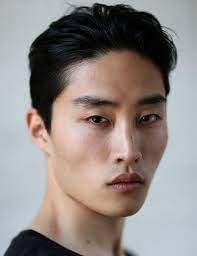person: (24, 1, 173, 224)
